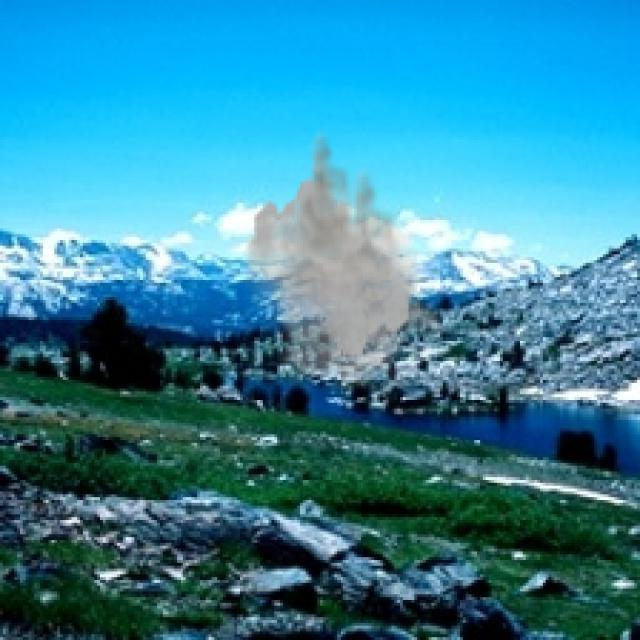Smoke: (243, 126, 446, 394)
